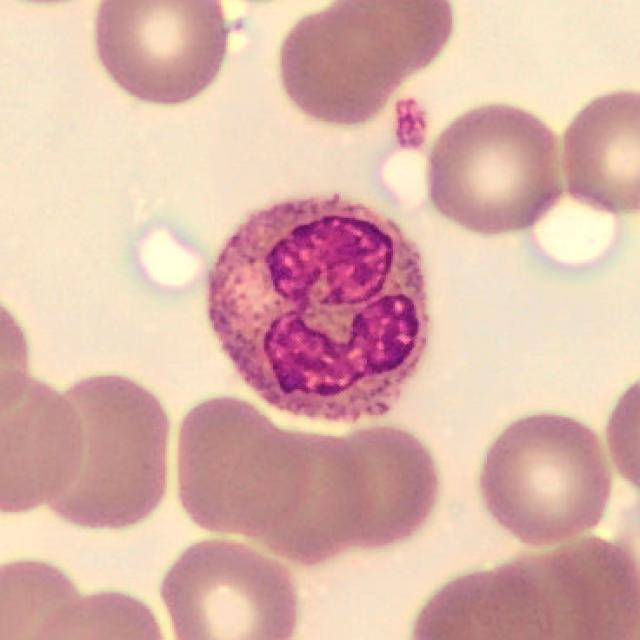Neutrofilo segmentado: (207, 195, 428, 424)
